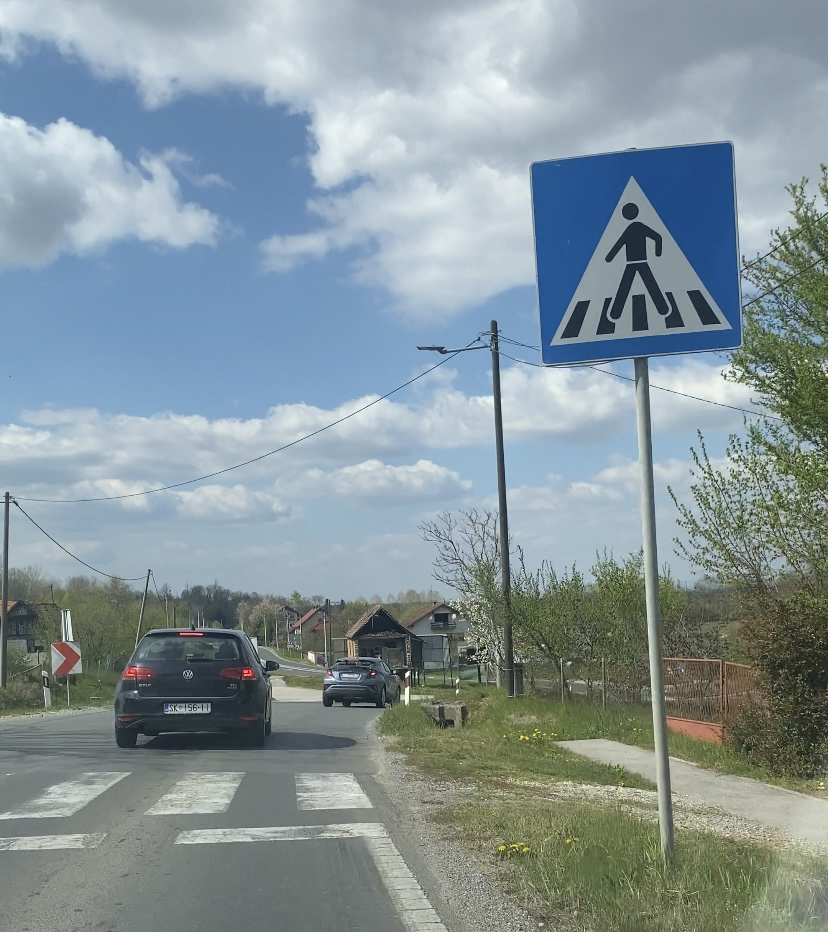Pješački prijelaz: (530, 140, 743, 368)
